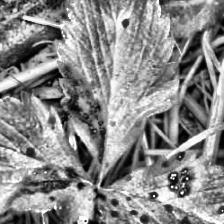Leaf Spot: (52, 0, 181, 183), (0, 89, 96, 224), (94, 149, 223, 224)
